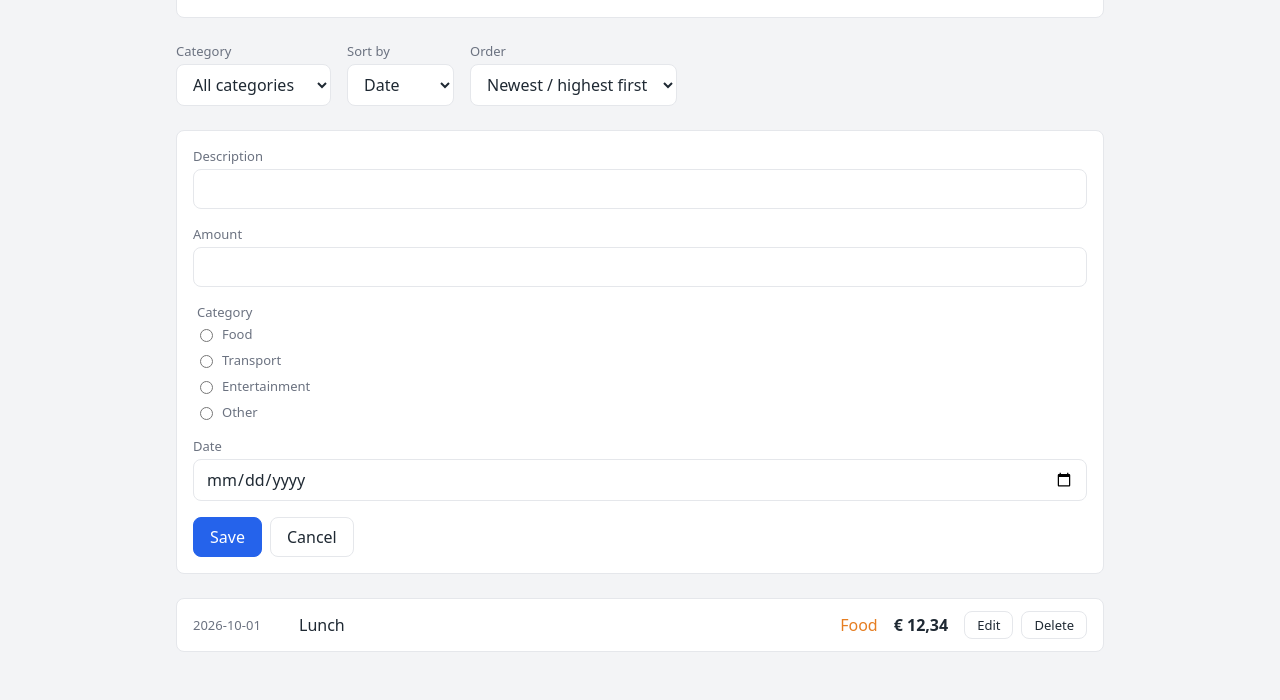
App › leaves edit mode after a save
The width and height of the screenshot is (1280, 700).
(page scrolled)
Click the button "Edit" at (989, 625), box [964, 611, 1014, 639]
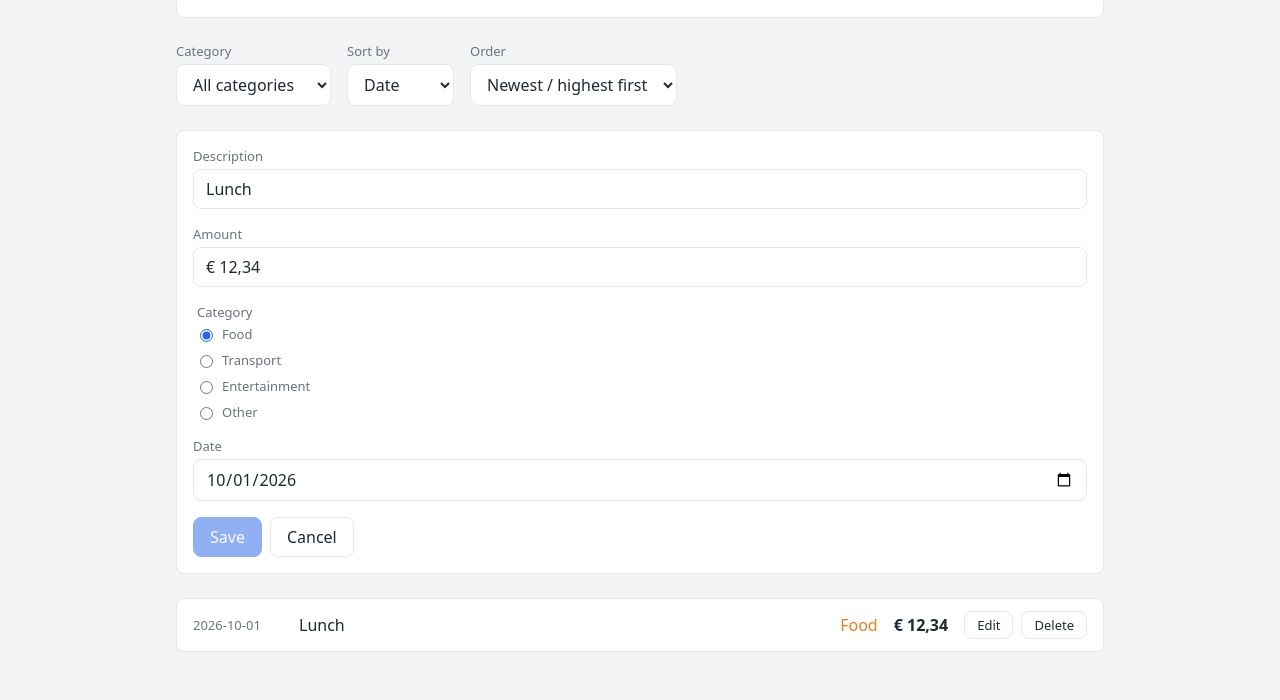
Submit the form, box [176, 130, 1104, 574]
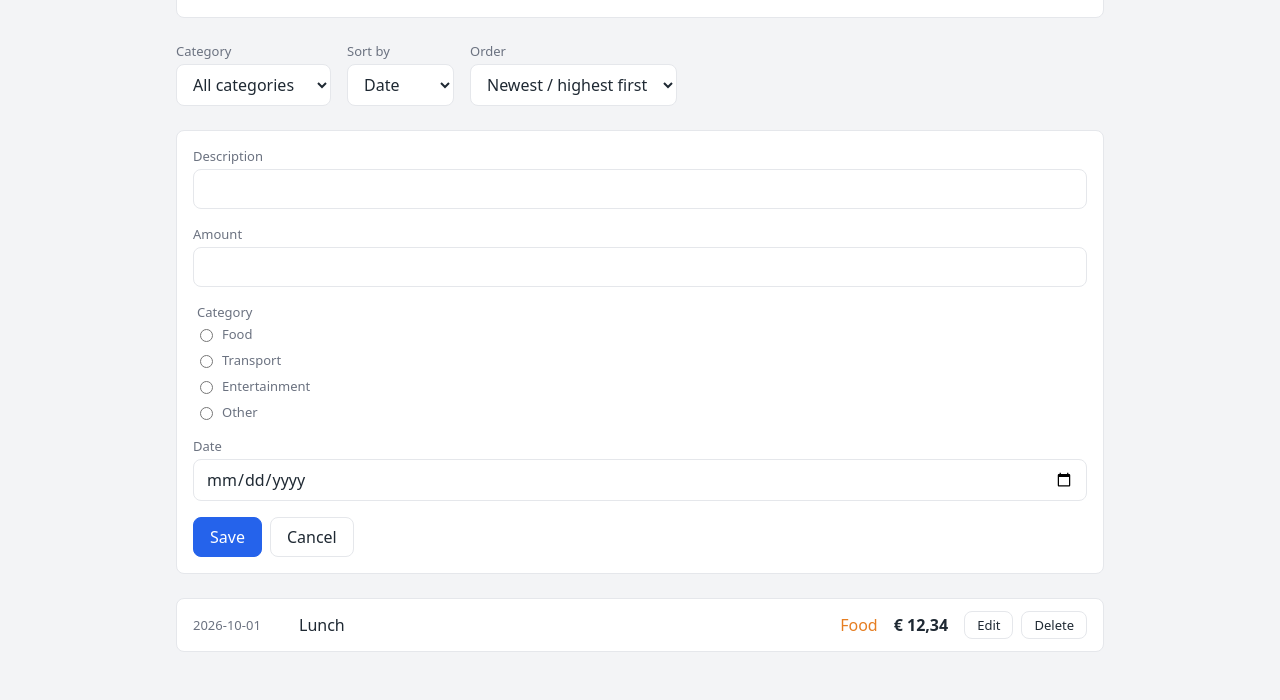
Expected: the number of list items with class "expense-item" is 1, [176, 598, 1104, 652]
Expected: the field with id "expense-description" is empty, [193, 169, 1087, 209]
